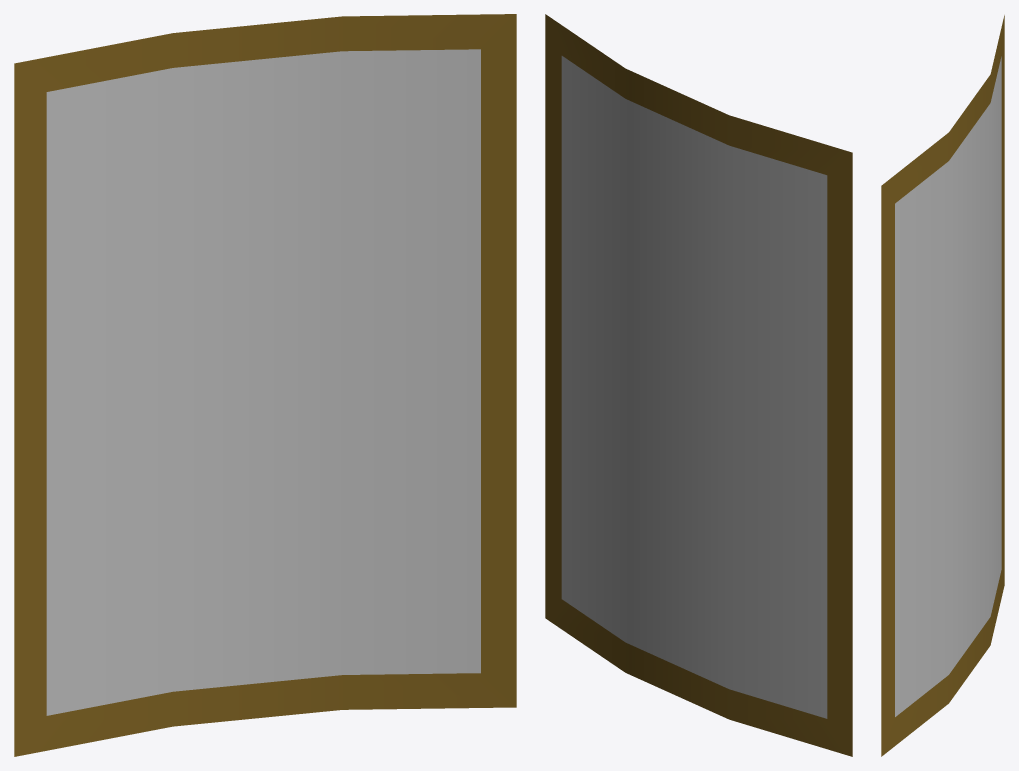
Rendered from mdl_zesty_trophydoor.gltf.
3 views of the same model, side by side, from view 1: azimuth 30°, elevation 25°; view 2: azimuth 150°, elevation 25°; view 3: azimuth 270°, elevation 25° (orthographic). The views are drawn at different scales.
Visible parts, largest first — view 1: mdl_zesty_trophydoor; view 2: mdl_zesty_trophydoor; view 3: mdl_zesty_trophydoor.
Part boxes in pixels (x1,y1,x2,y2): mdl_zesty_trophydoor: (14,14,516,756); mdl_zesty_trophydoor: (545,14,852,756); mdl_zesty_trophydoor: (881,15,1004,756).
Bounding box in the file's own units: 0.3154 × 0.489 × 0.0957.
